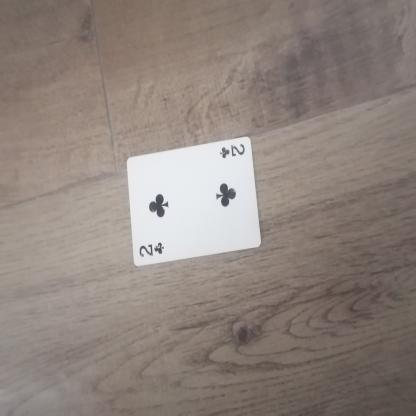2C: (214, 140, 248, 164), (137, 240, 170, 258)
